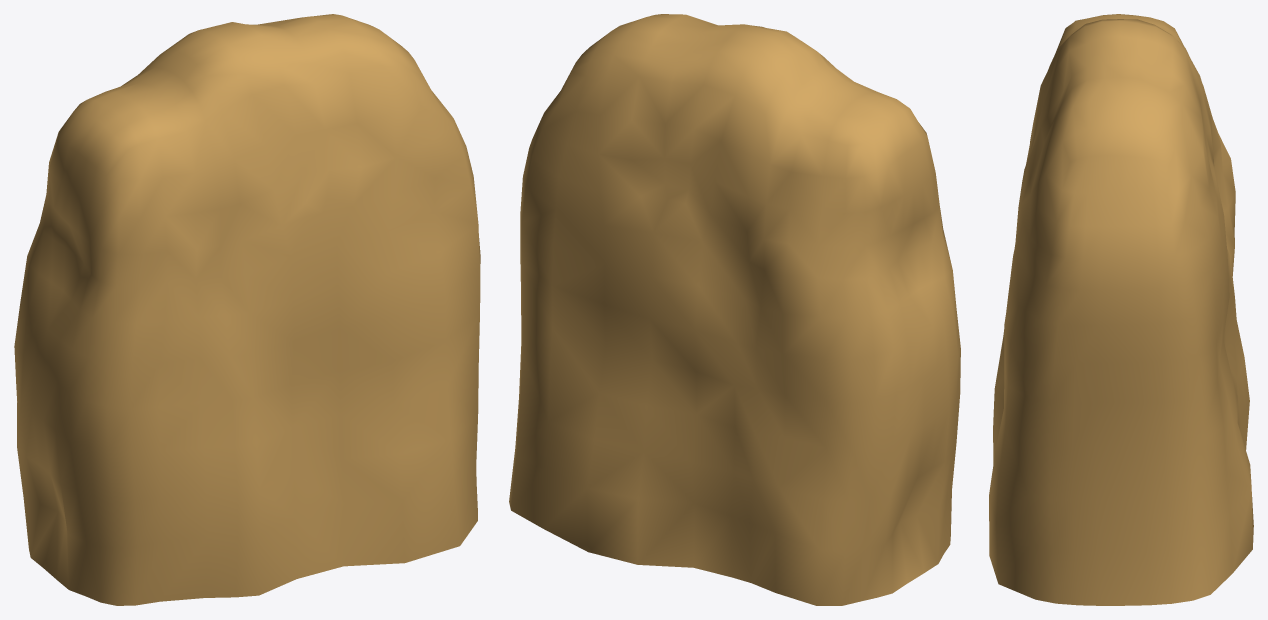
The model's file is Mode_PetitMurForet.fbx.
The picture shows the model from 3 angles, left to right: view 1: azimuth 30°, elevation 25°; view 2: azimuth 150°, elevation 25°; view 3: azimuth 270°, elevation 25°; orthographic projection. The views are drawn at different scales.
Parts seen in each view (by area): view 1: Mur_bas_low_poly; view 2: Mur_bas_low_poly; view 3: Mur_bas_low_poly.
Boxes of the visible parts, box(x1,y1,x2,y2) form: Mur_bas_low_poly: box(14, 14, 480, 605); Mur_bas_low_poly: box(509, 14, 960, 605); Mur_bas_low_poly: box(989, 14, 1253, 605).
Size of the model in its own units: 1913 by 2264 by 1129.
